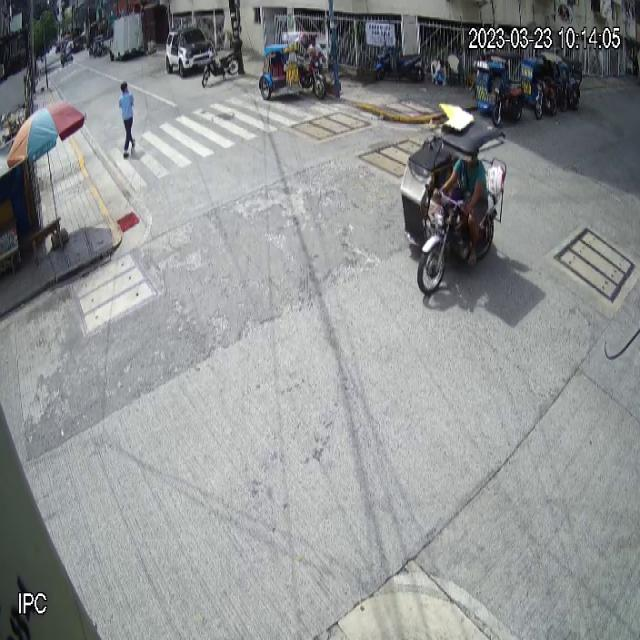Tricycle: (400, 111, 509, 301), (258, 28, 328, 100)
